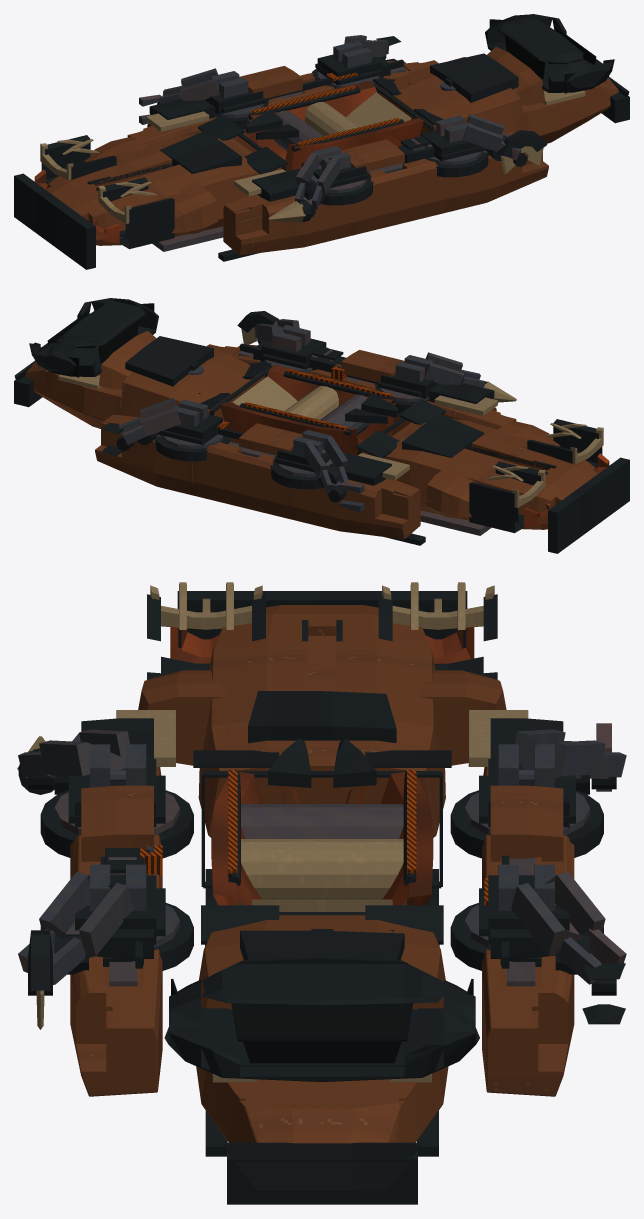
Rendered from ironback_production_v1_lod1.glb.
3 views of the same model, one above another, from view 1: azimuth 30°, elevation 25°; view 2: azimuth 150°, elevation 25°; view 3: azimuth 270°, elevation 25° (orthographic). The views are drawn at different scales.
Visible parts, largest first — view 1: LOD1_Hull, LOD1_Armor, LOD1_Mechanical, LOD1_Ceramic, LOD1_Thruster, LOD1_Warning, LOD1_Canopy; view 2: LOD1_Hull, LOD1_Armor, LOD1_Mechanical, LOD1_Ceramic, LOD1_Thruster, LOD1_Warning, LOD1_Canopy; view 3: LOD1_Armor, LOD1_Hull, LOD1_Mechanical, LOD1_Ceramic, LOD1_Canopy, LOD1_Thruster, LOD1_Warning.
Boxes of the visible parts, x1,y1,x2,y2 form: LOD1_Hull: (45, 47, 618, 255); LOD1_Armor: (14, 14, 629, 269); LOD1_Mechanical: (139, 35, 521, 251); LOD1_Ceramic: (40, 90, 585, 223); LOD1_Thruster: (34, 80, 423, 244); LOD1_Warning: (252, 72, 400, 147); LOD1_Canopy: (489, 19, 596, 93); LOD1_Hull: (25, 331, 598, 539); LOD1_Armor: (14, 298, 629, 553); LOD1_Mechanical: (118, 319, 491, 535); LOD1_Ceramic: (58, 327, 603, 507); LOD1_Thruster: (220, 364, 609, 528); LOD1_Warning: (217, 364, 391, 430); LOD1_Canopy: (47, 303, 154, 377); LOD1_Armor: (18, 591, 625, 1204); LOD1_Hull: (70, 605, 574, 1143); LOD1_Mechanical: (18, 723, 626, 986); LOD1_Ceramic: (17, 582, 528, 1082); LOD1_Canopy: (171, 978, 473, 1063); LOD1_Thruster: (170, 627, 474, 905); LOD1_Warning: (140, 770, 488, 905).
Size of what is drawn, in the model's own units: 16.48 by 3.51 by 7.78.
8 materials, 8 textured.
